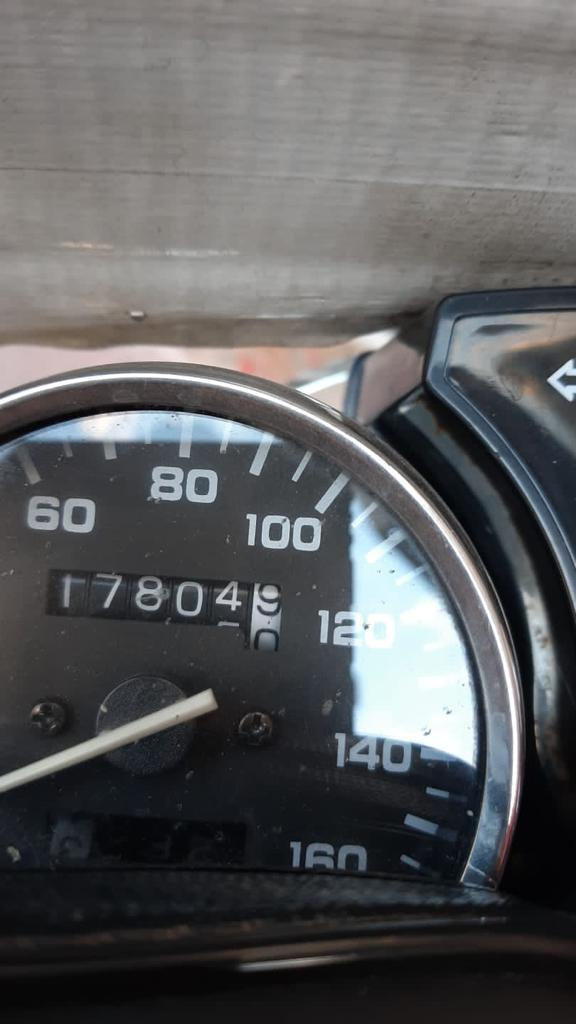0: (172, 578, 205, 619), (249, 625, 280, 652)
1: (56, 572, 79, 611)
4: (212, 577, 244, 613)
7: (92, 570, 124, 611)
8: (131, 574, 166, 613)
9: (255, 581, 282, 618)
odometer: (43, 565, 286, 656)
